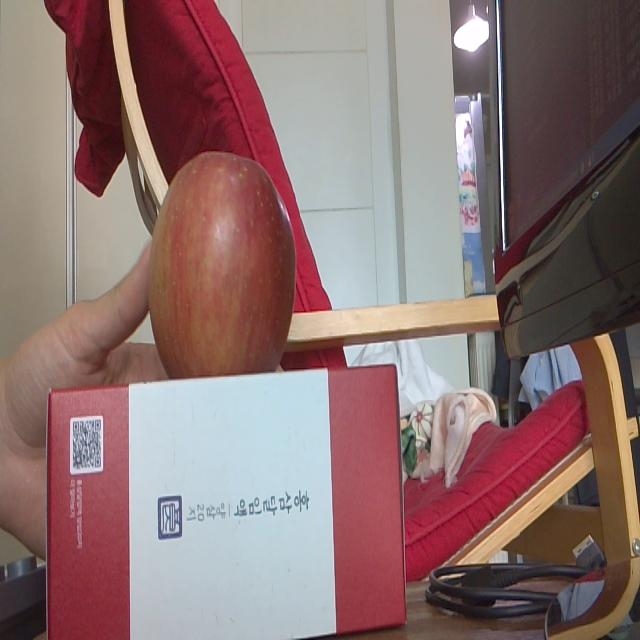apple: (147, 153, 299, 378)
